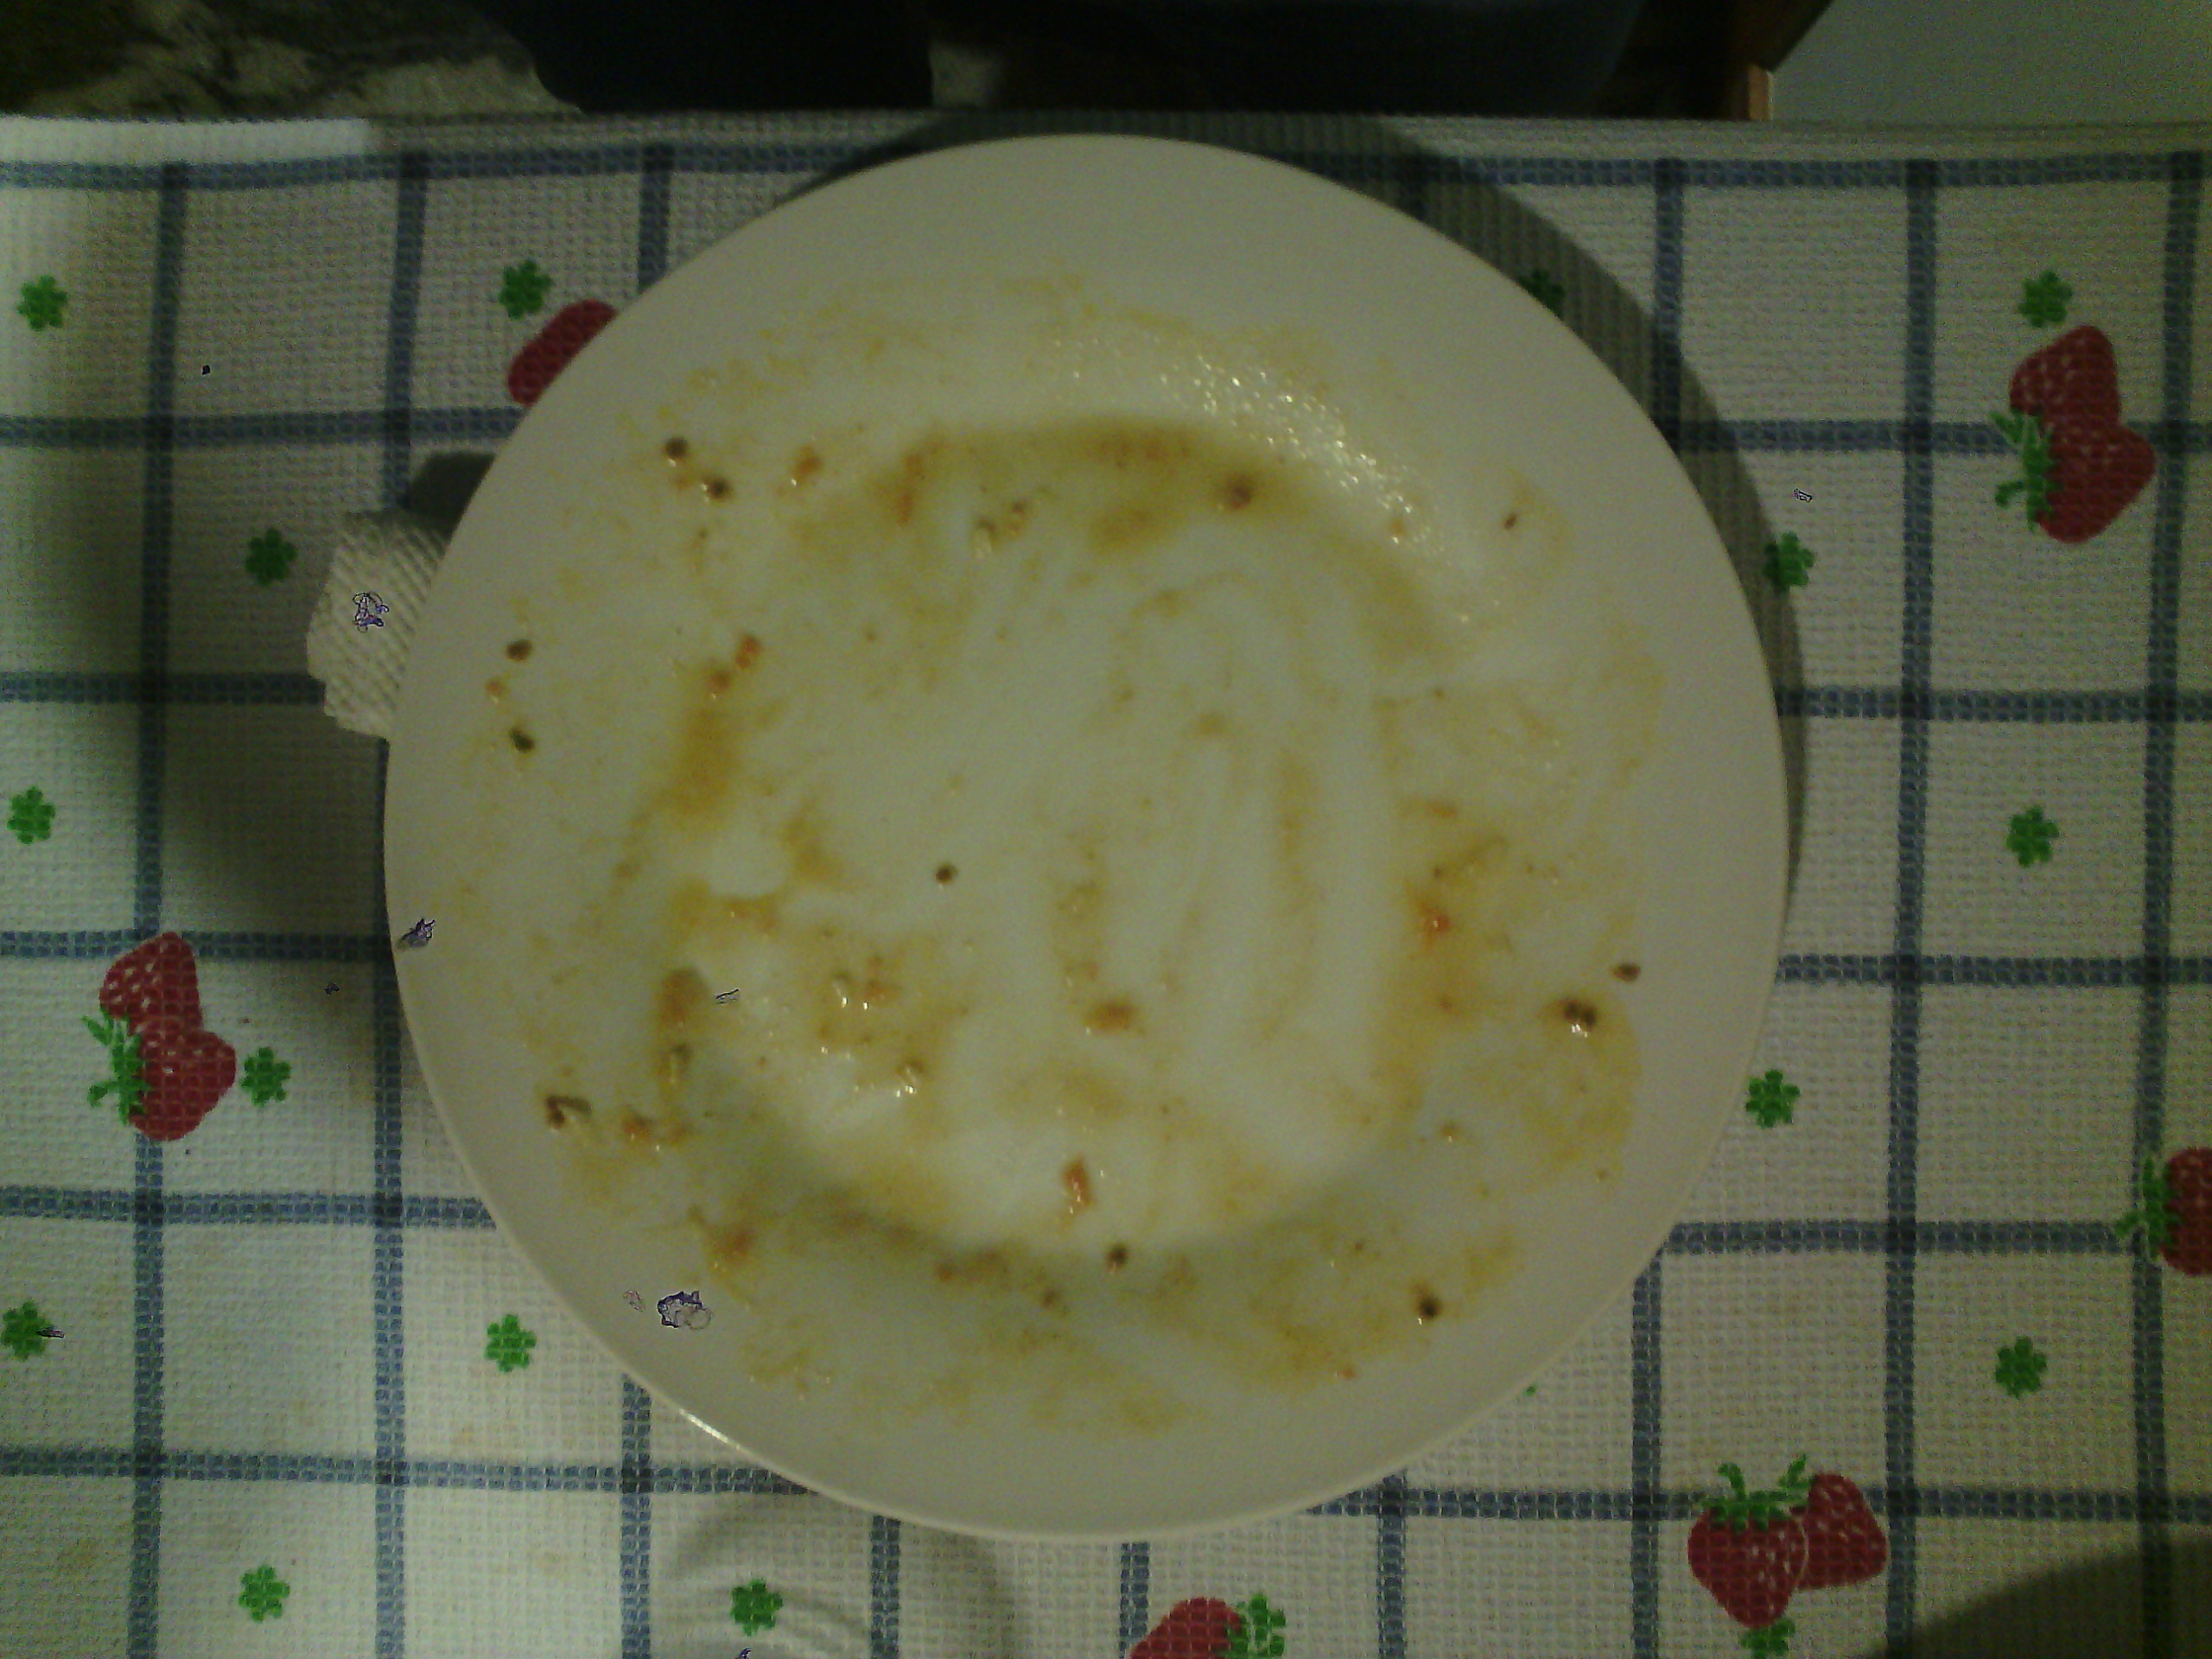0-20: (373, 138, 1789, 1554)
